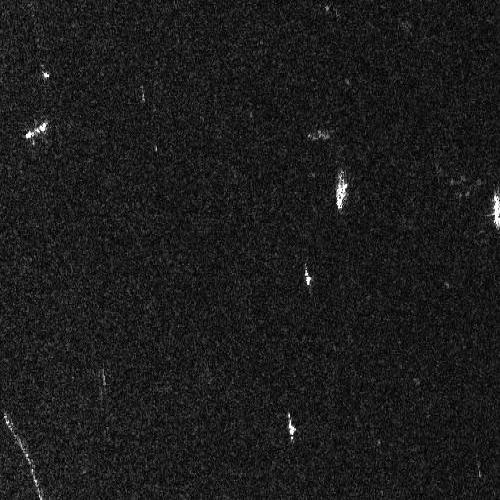ship: (24, 116, 49, 141), (335, 169, 348, 213), (286, 410, 296, 442), (303, 264, 312, 287)
